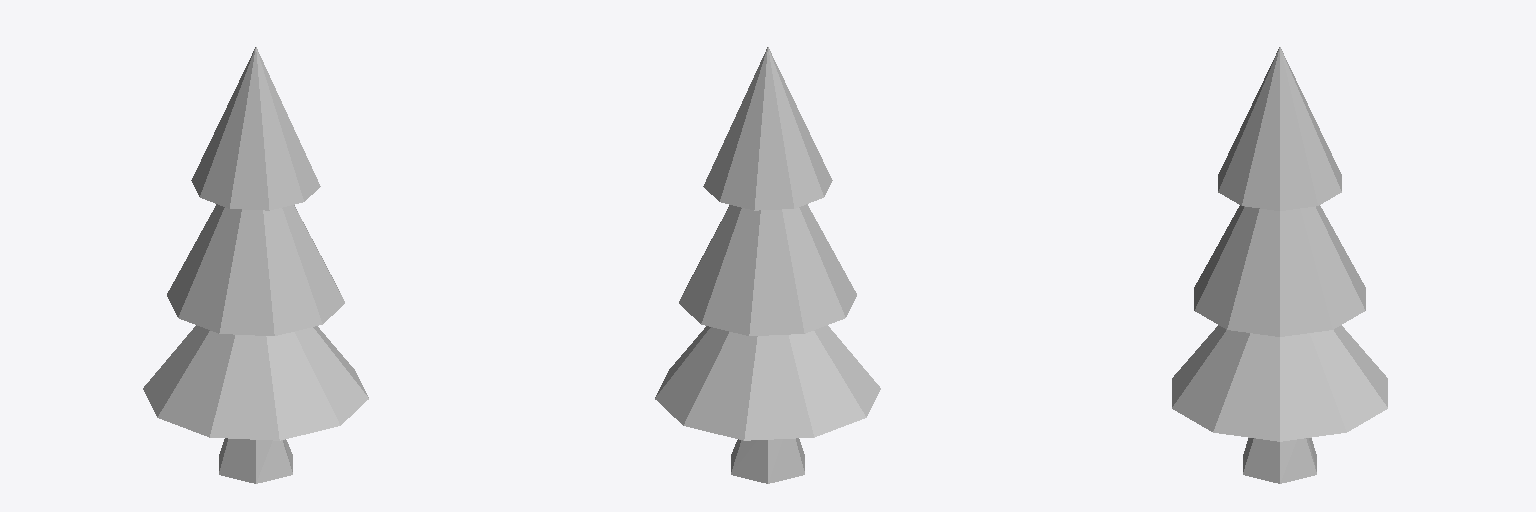
File: Tree_001.obj
3 views of the same model, side by side, from view 1: azimuth 30°, elevation 25°; view 2: azimuth 150°, elevation 25°; view 3: azimuth 270°, elevation 25° (orthographic).
Visible parts, largest first — view 1: pCylinder5; view 2: pCylinder5; view 3: pCylinder5.
Boxes of the visible parts, x1,y1,x2,y2 form: pCylinder5: [143, 47, 368, 483]; pCylinder5: [655, 47, 880, 483]; pCylinder5: [1172, 47, 1387, 483].
Bounding box in the file's own units: 2 × 4.06 × 1.9.